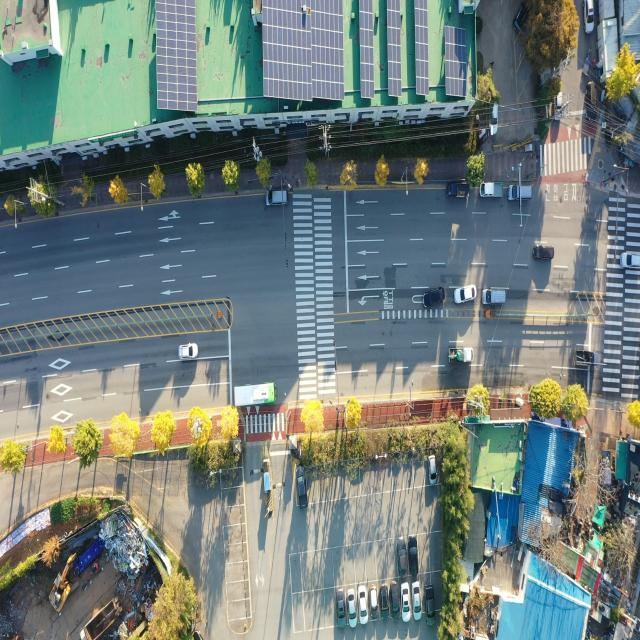car: (580, 0, 594, 35), (488, 100, 500, 136), (483, 288, 506, 306), (509, 184, 533, 201), (347, 585, 356, 630), (410, 536, 420, 576), (297, 464, 307, 504), (399, 536, 409, 575), (455, 286, 476, 304), (267, 188, 288, 206), (424, 289, 444, 307), (358, 585, 367, 624), (513, 2, 524, 32), (532, 246, 554, 260), (381, 584, 390, 618), (178, 344, 197, 360), (621, 252, 640, 268), (426, 586, 434, 624), (338, 590, 346, 627), (391, 584, 399, 620), (414, 584, 422, 620), (556, 95, 565, 124), (402, 586, 409, 620), (369, 587, 376, 618), (430, 455, 437, 483)
large_bus: (231, 383, 276, 407)
medium_truck: (78, 592, 125, 640)
small_truck: (479, 180, 504, 202), (574, 349, 600, 368), (585, 81, 596, 122), (447, 181, 470, 199), (448, 348, 474, 363)
